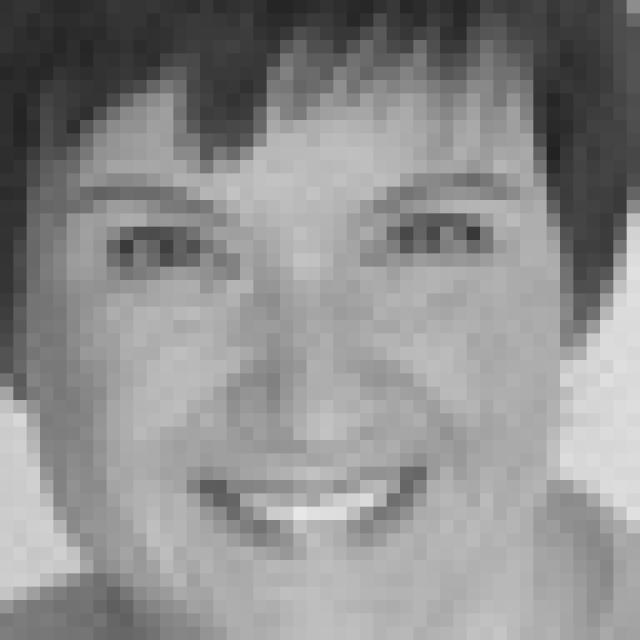happy: (61, 165, 536, 582)
